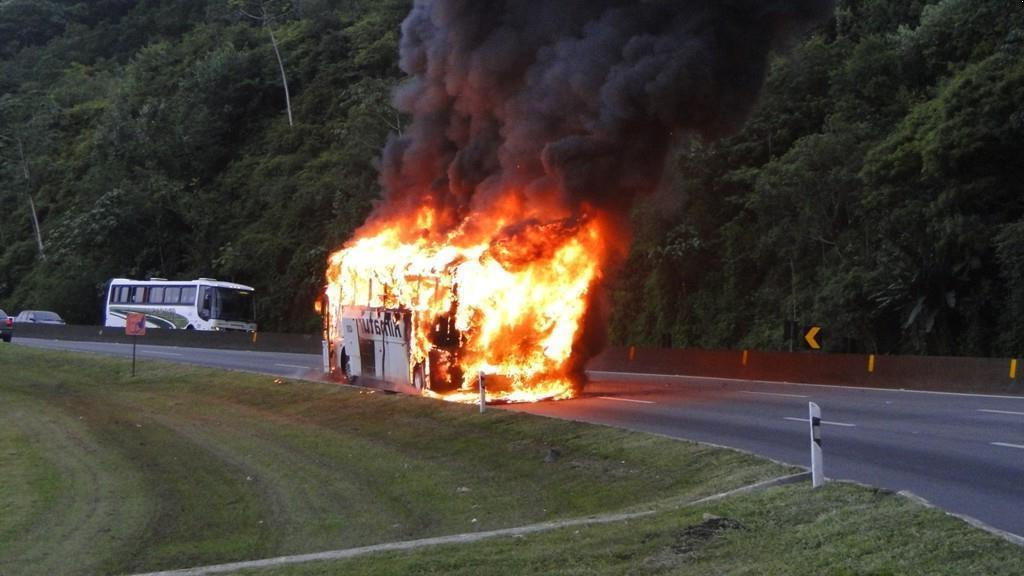Fire: (309, 198, 618, 413)
